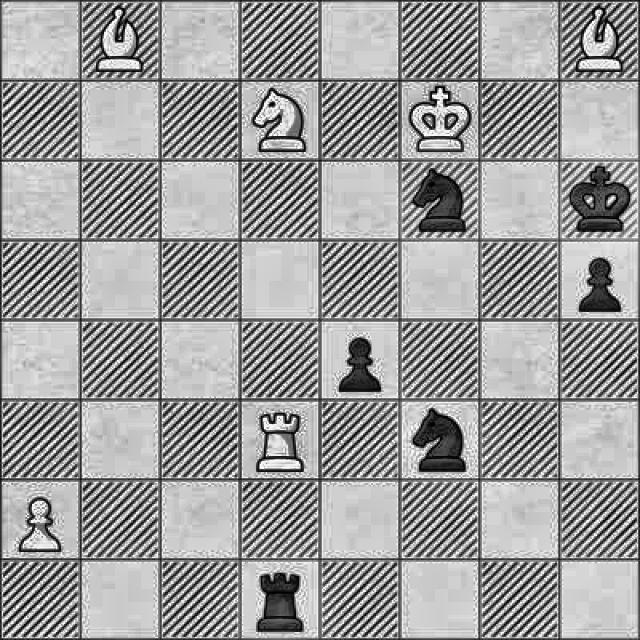Black Knight: (406, 407, 476, 478), (406, 165, 476, 234)
black king: (561, 163, 640, 239)
black pawn: (333, 324, 389, 397), (570, 253, 630, 320)
black rook: (245, 559, 310, 637)
white bishop: (566, 6, 636, 78), (94, 4, 147, 76)
white king: (406, 84, 472, 157)
white pawn: (4, 486, 77, 556)
white rook: (240, 406, 321, 474)
whiteknight: (250, 88, 313, 155)
